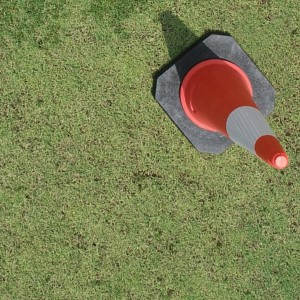traffic cone: (154, 33, 287, 169)
